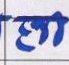i_matra: (52, 11, 62, 46)
